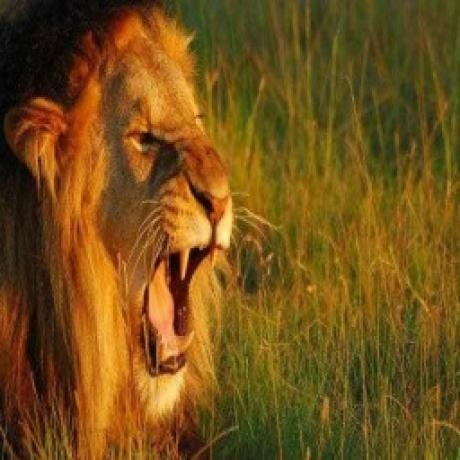Lion: (0, 0, 232, 460)
